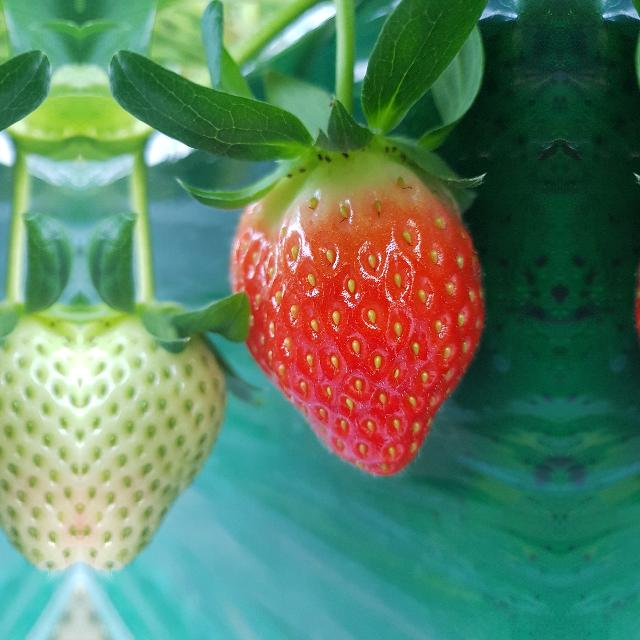Health_100: (228, 150, 487, 478)
Health_25: (80, 286, 232, 574), (0, 286, 80, 574)
